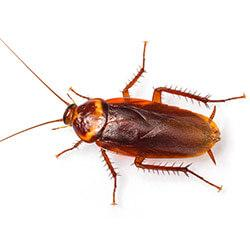cockroach: (55, 88, 222, 176)
